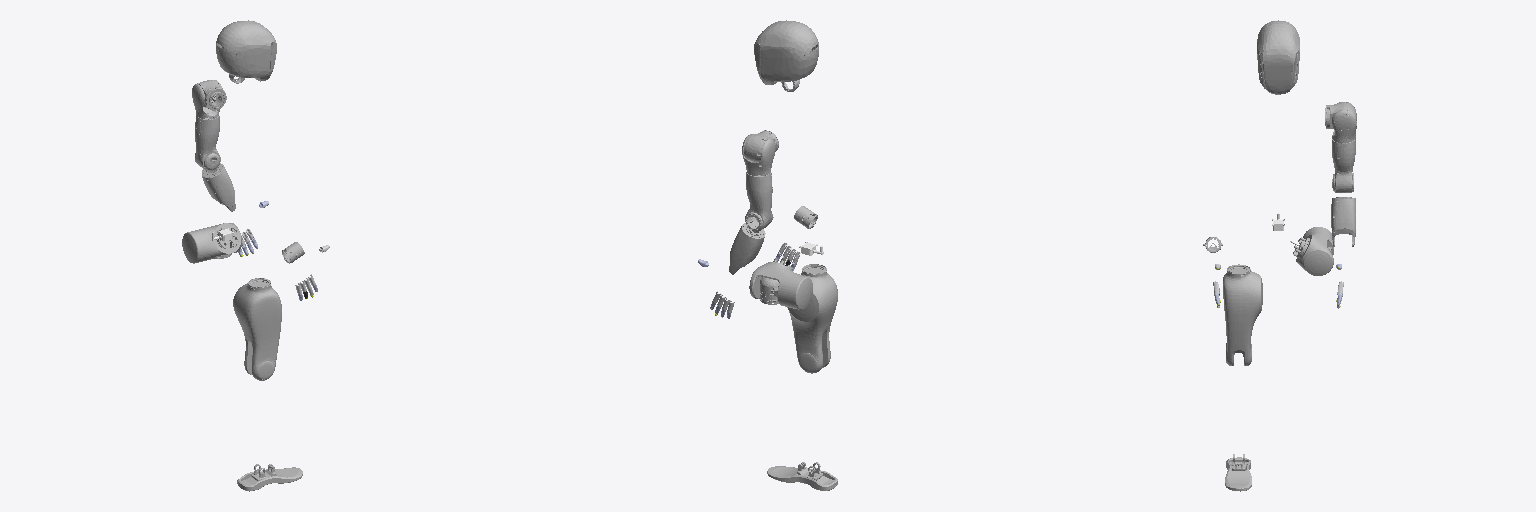
--- Render facts (derived) ---
3 views of the same robot in one strip: view 1: azimuth 30°, elevation 25°; view 2: azimuth 150°, elevation 25°; view 3: azimuth 270°, elevation 25° (orthographic).
Robot: GR2_foot — 69 links, 68 joints (51 revolute, 17 fixed); root link base_link; default pose: all joints at 0.
Visible links, largest first — view 1: right_thigh_yaw_link, head_pitch_link, left_thigh_pitch_link, left_upper_arm_yaw_link, right_foot_pitch_link, left_hand_yaw_link, left_upper_arm_pitch_link; view 2: head_pitch_link, right_thigh_yaw_link, left_thigh_pitch_link, left_upper_arm_yaw_link, right_foot_pitch_link, left_hand_yaw_link, left_upper_arm_roll_link, left_upper_arm_pitch_link; view 3: right_thigh_yaw_link, head_pitch_link, left_thigh_pitch_link, left_upper_arm_yaw_link, left_hand_yaw_link, right_foot_pitch_link, left_upper_arm_roll_link.
Boxes of the visible links, left/top/right/bottom form: right_thigh_yaw_link: left=233, top=278, right=281, bottom=380; head_pitch_link: left=216, top=20, right=276, bottom=83; left_thigh_pitch_link: left=182, top=223, right=241, bottom=263; left_upper_arm_yaw_link: left=195, top=116, right=220, bottom=170; right_foot_pitch_link: left=237, top=464, right=302, bottom=491; left_hand_yaw_link: left=202, top=163, right=235, bottom=211; left_upper_arm_pitch_link: left=197, top=80, right=226, bottom=110; head_pitch_link: left=754, top=20, right=818, bottom=91; right_thigh_yaw_link: left=787, top=264, right=837, bottom=373; left_thigh_pitch_link: left=749, top=258, right=812, bottom=309; left_upper_arm_yaw_link: left=745, top=172, right=772, bottom=231; right_foot_pitch_link: left=767, top=462, right=837, bottom=490; left_hand_yaw_link: left=729, top=223, right=765, bottom=274; left_upper_arm_roll_link: left=742, top=134, right=775, bottom=175; left_upper_arm_pitch_link: left=744, top=130, right=778, bottom=161; right_thigh_yaw_link: left=1223, top=264, right=1262, bottom=365; head_pitch_link: left=1257, top=20, right=1299, bottom=94; left_thigh_pitch_link: left=1290, top=227, right=1333, bottom=275; left_upper_arm_yaw_link: left=1332, top=139, right=1355, bottom=192; left_hand_yaw_link: left=1331, top=197, right=1355, bottom=246; right_foot_pitch_link: left=1225, top=454, right=1251, bottom=491; left_upper_arm_roll_link: left=1332, top=102, right=1356, bottom=142.
Bounding box of the posed robot: 0.3758 × 0.5421 × 1.75 m (x, y, z).
Meshes: 57 distinct files referenced, 30 mesh visuals loaded (30 binary STL); not drawn: 27 (reference not matched to a file when rendering).

The robot description file, URDF, robot "GR2_foot":
<?xml version="1.0" encoding="utf-8"?>

<!-- 12162024-beta-1 -->

<robot
  name="GR2_foot">
  <link
    name="base_link">
    <inertial>
      <origin
        xyz="-0.0078051 -8.06E-08 -0.082971"
        rpy="0 0 0" />
      <mass
        value="6.36" />
      <inertia
        ixx="0.047512"
        ixy="3.99E-06"
        ixz="0.00034188"
        iyy="0.029447"
        iyz="1.7E-05"
        izz="0.039535" />
    </inertial>
    <visual>
      <origin
        xyz="0 0 0"
        rpy="0 0 0" />
      <geometry>
        <mesh
          filename="../meshes/base_link.STL" />
      </geometry>
      <material
        name="">
        <color
          rgba="0.75294 0.75294 0.75294 1" />
      </material>
    </visual>
    <collision name="base_1">
        <origin 
          rpy="0 0 0" 
          xyz="0.0 -0.08 -0.11"/>
        <geometry>
            <sphere radius="0.05"/>
        </geometry>
    </collision>
    <collision name="base_2">
        <origin 
        rpy="0 0 0" 
        xyz="0.0 0.08 -0.11"/>
        <geometry>
            <sphere radius="0.05"/>
        </geometry>
    </collision>
  </link>
  <link
    name="waist_yaw_link">
    <inertial>
      <origin
        xyz="-0.00039919 -3.55E-05 0.08079"
        rpy="0 0 0" />
      <mass
        value="0.69" />
      <inertia
        ixx="0.0010409"
        ixy="-1E-08"
        ixz="-2.8E-07"
        iyy="0.0010447"
        iyz="4.9E-07"
        izz="0.00056658" />
    </inertial>
    <visual>
      <origin
        xyz="0 0 0"
        rpy="0 0 0" />
      <geometry>
        <mesh
          filename="../meshes/waist_yaw_link.STL" />
      </geometry>
      <material
        name="">
        <color
          rgba="0.75294 0.75294 0.75294 1" />
      </material>
    </visual>
    <!-- <collision>
      <origin
        xyz="0 0 0"
        rpy="0 0 0" />
      <geometry>
        <mesh
          filename="../meshes/waist_yaw_link.STL" />
      </geometry>
    </collision> -->
  </link>
  <joint
    name="waist_yaw_joint"
    type="revolute">
    <origin
      xyz="0 0 -0.0335"
      rpy="0 0 0" />
    <parent
      link="base_link" />
    <child
      link="waist_yaw_link" />
    <axis
      xyz="0 0 1" />
    <limit
      lower="-2.617"
      upper="2.617"
      effort="82.5"
      velocity="3.24" />
  </joint>
  <link
    name="torso_link">
    <inertial>
      <origin
        xyz="-0.021484 -4.63E-05 -0.12733"
        rpy="0 0 0" />
      <mass
        value="14.97" />
      <inertia
        ixx="0.26875"
        ixy="-0.00046521"
        ixz="-0.0028119"
        iyy="0.22441"
        iyz="0.0010695"
        izz="0.11476" />
    </inertial>
    <visual>
      <origin
        xyz="0 0 0"
        rpy="0 0 0" />
      <geometry>
        <mesh
          filename="../meshes/torso_link.STL" />
      </geometry>
      <material
        name="">
        <color
          rgba="0.75294 0.75294 0.75294 1" />
      </material>
    </visual>
    <collision>
        <origin
                xyz="0 0 -0.1"
                rpy="0 0 0"/>
        <geometry>
            <cylinder length="0.25" radius="0.1"/>
        </geometry>
    </collision>
  </link>
  <joint
    name="torso_joint"
    type="fixed">
    <origin
      xyz="0 0 0.4135"
      rpy="0 0 0" />
    <parent
      link="waist_yaw_link" />
    <child
      link="torso_link" />
    <axis
      xyz="0 0 0" />
  </joint>
  <link
    name="head_yaw_link">
    <inertial>
      <origin
        xyz="-2.74E-09 0.018481 0.049744"
        rpy="0 0 0" />
      <mass
        value="0.21" />
      <inertia
        ixx="0.00020193"
        ixy="0"
        ixz="0"
        iyy="0.00017128"
        iyz="-3.72E-05"
        izz="6.13E-05" />
    </inertial>
    <visual>
      <origin
        xyz="0 0 0"
        rpy="0 0 0" />
      <geometry>
        <mesh
          filename="../meshes/head_yaw_link.STL" />
      </geometry>
      <material
        name="">
        <color
          rgba="0.752941176470588 0.752941176470588 0.752941176470588 1" />
      </material>
    </visual>
    <!-- <collision>
      <origin
        xyz="0 0 0"
        rpy="0 0 0" />
      <geometry>
        <mesh
          filename="../meshes/head_yaw_link.STL" />
      </geometry>
    </collision> -->
  </link>
  <joint
    name="head_yaw_joint"
    type="revolute">
    <origin
      xyz="0.001 0 0.08575"
      rpy="0 0 0" />
    <parent
      link="torso_link" />
    <child
      link="head_yaw_link" />
    <axis
      xyz="0 0 1" />
    <limit
      lower="-1.396"
      upper="1.396"
      effort="29.4"
      velocity="4.58" />
  </joint>
  <link
    name="head_pitch_link">
    <inertial>
      <origin
        xyz="0.029215 0.0015527 0.08792"
        rpy="0 0 0" />
      <mass
        value="1.29" />
      <inertia
        ixx="0.0064394"
        ixy="3.09E-05"
        ixz="-0.00015995"
        iyy="0.0074596"
        iyz="7.87E-05"
        izz="0.0041621" />
    </inertial>
    <visual>
      <origin
        xyz="0 0 0"
        rpy="0 0 0" />
      <geometry>
        <mesh
          filename="../meshes/head_pitch_link.STL" />
      </geometry>
      <material
        name="">
        <color
          rgba="0.75294 0.75294 0.75294 1" />
      </material>
    </visual>
    <collision name="head">
        <origin 
          rpy="0 0 0" 
          xyz="0 0 0.11"/>
        <geometry>
            <sphere radius="0.08"/>
        </geometry>
    </collision>
  </link>
  <joint
    name="head_pitch_joint"
    type="revolute">
    <origin
      xyz="0 0 0.07005"
      rpy="0 0 0" />
    <parent
      link="head_yaw_link" />
    <child
      link="head_pitch_link" />
    <axis
      xyz="0 1 0" />
    <limit
      lower="-0.523"
      upper="0.663"
      effort="29.4"
      velocity="4.58" />
  </joint>
  <link
    name="camera_link">
    <inertial>
      <origin
        xyz="0.018047 2.84E-05 0.00027674"
        rpy="0 0 0" />
      <mass
        value="0.07" />
      <inertia
        ixx="6.41E-05"
        ixy="1.9E-07"
        ixz="2.4E-07"
        iyy="1.34E-05"
        iyz="0"
        izz="6.69E-05" />
    </inertial>
    <visual>
      <origin
        xyz="0 0 0"
        rpy="0 0 0" />
      <geometry>
        <mesh
          filename="../meshes/camera_link.STL" />
      </geometry>
      <material
        name="">
        <color
          rgba="0.752941176470588 0.752941176470588 0.752941176470588 1" />
      </material>
    </visual>
    <!-- <collision>
      <origin
        xyz="0 0 0"
        rpy="0 0 0" />
      <geometry>
        <mesh
          filename="../meshes/camera_link.STL" />
      </geometry>
    </collision> -->
  </link>
  <joint
    name="camera_joint"
    type="fixed">
    <origin
      xyz="0.090579 0 0.091065"
      rpy="0 0.12217 0" />
    <parent
      link="head_pitch_link" />
    <child
      link="camera_link" />
    <axis
      xyz="0 0 0" />
  </joint>
  <link
    name="left_upper_arm_pitch_link">
    <inertial>
      <origin
        xyz="0.0010189 0.078263 0.001"
        rpy="0 0 0" />
      <mass
        value="1.35" />
      <inertia
        ixx="0.0031422"
        ixy="-6.68E-05"
        ixz="5.1E-07"
        iyy="0.0012583"
        iyz="-2.2E-07"
        izz="0.0030484" />
    </inertial>
    <visual>
      <origin
        xyz="0 0 0"
        rpy="0 0 0" />
      <geometry>
        <mesh
          filename="../meshes/left_upper_arm_pitch_link.STL" />
      </geometry>
      <material
        name="">
        <color
          rgba="0.75294 0.75294 0.75294 1" />
      </material>
    </visual>
    <!-- <collision>
      <origin
        xyz="0 0 0"
        rpy="0 0 0" />
      <geometry>
        <mesh
          filename="../meshes/left_upper_arm_pitch_link.STL" />
      </geometry>
    </collision> -->
  </link>
  <joint
    name="left_shoulder_pitch_joint"
    type="revolute">
    <origin
      xyz="0 0.128 0"
      rpy="0 0 0" />
    <parent
      link="torso_link" />
    <child
      link="left_upper_arm_pitch_link" />
    <axis
      xyz="0 1 0" />
    <limit
      lower="-2.966"
      upper="1.919"
      effort="82.5"
      velocity="3.24" />
  </joint>
  <link
    name="left_upper_arm_roll_link">
    <inertial>
      <origin
        xyz="0.003813 0.0056748 -0.039656"
        rpy="0 0 0" />
      <mass
        value="0.96" />
      <inertia
        ixx="0.002538"
        ixy="9.63E-06"
        ixz="-0.00033776"
        iyy="0.0027454"
        iyz="9E-08"
        izz="0.00086136" />
    </inertial>
    <visual>
      <origin
        xyz="0 0 0"
        rpy="0 0 0" />
      <geometry>
        <mesh
          filename="../meshes/left_upper_arm_roll_link.STL" />
      </geometry>
      <material
        name="">
        <color
          rgba="0.752941176470588 0.752941176470588 0.752941176470588 1" />
      </material>
    </visual>
    <!-- <collision>
      <origin
        xyz="0 0 0"
        rpy="0 0 0" />
      <geometry>
        <mesh
          filename="../meshes/left_upper_arm_roll_link.STL" />
      </geometry>
    </collision> -->
  </link>
  <joint
    name="left_shoulder_roll_joint"
    type="revolute">
    <origin
      xyz="0 0.102 0"
      rpy="0 0 0" />
    <parent
      link="left_upper_arm_pitch_link" />
    <child
      link="left_upper_arm_roll_link" />
    <axis
      xyz="1 0 0" />
    <limit
      lower="-0.523"
      upper="2.791"
      effort="82.5"
      velocity="3.24" />
  </joint>
  <link
    name="left_upper_arm_yaw_link">
    <inertial>
      <origin
        xyz="-0.0019473 0.00066361 -0.054501"
        rpy="0 0 0" />
      <mass
        value="1.32" />
      <inertia
        ixx="0.0068752"
        ixy="3E-07"
        ixz="-8.99E-06"
        iyy="0.0069461"
        iyz="0.00010128"
        izz="0.0011309" />
    </inertial>
    <visual>
      <origin
        xyz="0 0 0"
        rpy="0 0 0" />
      <geometry>
        <mesh
          filename="../meshes/left_upper_arm_yaw_link.STL" />
      </geometry>
      <material
        name="">
        <color
          rgba="0.75294 0.75294 0.75294 1" />
      </material>
    </visual>
    <collision>
        <origin
                xyz="0 0 -0.015"
                rpy="0 0 0"/>
        <geometry>
            <cylinder length="0.11" radius="0.03"/>
        </geometry>
    </collision>
  </link>
  <joint
    name="left_shoulder_yaw_joint"
    type="revolute">
    <origin
      xyz="0 0 -0.12298"
      rpy="0 0 0" />
    <parent
      link="left_upper_arm_roll_link" />
    <child
      link="left_upper_arm_yaw_link" />
    <axis
      xyz="0 0 1" />
    <limit
      lower="-1.832"
      upper="1.832"
      effort="47.4"
      velocity="4.97" />
  </joint>
  <link
    name="left_lower_arm_pitch_link">
    <inertial>
      <origin
        xyz="-0.0033138 0.0044992 -0.02228"
        rpy="0 0 0" />
      <mass
        value="0.48" />
      <inertia
        ixx="0.00070355"
        ixy="-2.97E-06"
        ixz="-4.13E-06"
        iyy="0.00058904"
        iyz="-6.85E-05"
        izz="0.00037244" />
    </inertial>
    <visual>
      <origin
        xyz="0 0 0"
        rpy="0 0 0" />
      <geometry>
        <mesh
          filename="../meshes/left_lower_arm_pitch_link.STL" />
      </geometry>
      <material
        name="">
        <color
          rgba="0.752941176470588 0.752941176470588 0.752941176470588 1" />
      </material>
    </visual>
    <!-- <collision>
      <origin
        xyz="0 0 0"
        rpy="0 0 0" />
      <geometry>
        <mesh
          filename="../meshes/left_lower_arm_pitch_link.STL" />
      </geometry>
    </collision> -->
  </link>
  <joint
    name="left_elbow_pitch_joint"
    type="revolute">
    <origin
      xyz="0 0 -0.13252"
      rpy="0 -0.3927 0" />
    <parent
      link="left_upper_arm_yaw_link" />
    <child
      link="left_lower_arm_pitch_link" />
    <axis
      xyz="0 1 0" />
    <limit
      lower="-1.526"
      upper="0.479"
      effort="47.4"
      velocity="4.97" />
  </joint>
  <link
    name="left_hand_yaw_link">
    <inertial>
      <origin
        xyz="-0.00010282 0.0022157 -0.031002"
        rpy="0 0 0" />
      <mass
        value="1.04" />
      <inertia
        ixx="0.0023678"
        ixy="-9.09E-06"
        ixz="2.09E-05"
        iyy="0.00228285"
        iyz="0.00012584"
        izz="0.00086449" />
    </inertial>
    <visual>
      <origin
        xyz="0 0 0"
        rpy="0 0 0" />
      <geometry>
        <mesh
          filename="../meshes/left_hand_yaw_link.STL" />
      </geometry>
      <material
        name="">
        <color
          rgba="0.752941176470588 0.752941176470588 0.752941176470588 1" />
      </material>
    </visual>
    <collision>
        <origin
                xyz="0 0 -0.05"
                rpy="0 0 0"/>
        <geometry>
            <cylinder length="0.17" radius="0.035"/>
        </geometry>
    </collision>
  </link>
  <joint
    name="left_wrist_yaw_joint"
    type="revolute">
    <origin
      xyz="0 0 -0.086418"
      rpy="0 0 0" />
    <parent
      link="left_lower_arm_pitch_link" />
    <child
      link="left_hand_yaw_link" />
    <axis
      xyz="0 0 1" />
    <limit
      lower="-1.832"
      upper="1.832"
      effort="29.4"
      velocity="4.58" />
  </joint>
  <link
    name="left_hand_pitch_link">
    <inertial>
      <origin
        xyz="0.0058895 7.68E-06 -0.00064642"
        rpy="0 0 0" />
      <mass
        value="0.46" />
      <inertia
        ixx="0.00025616"
        ixy="-5.7E-07"
        ixz="-2.36E-06"
        iyy="0.00022265"
        iyz="-1.1E-07"
        izz="0.00022858" />
    </inertial>
    <visual>
      <origin
        xyz="0 0 0"
        rpy="0 0 0" />
      <geometry>
        <mesh
          filename="../meshes/left_hand_pitch_link.STL" />
      </geometry>
      <material
        name="">
        <color
          rgba="0.75294 0.75294 0.75294 1" />
      </material>
    </visual>
    <!-- <collision>
      <origin
        xyz="0 0 0"
        rpy="0 0 0" />
      <geometry>
        <mesh
          filename="../meshes/left_hand_pitch_link.STL" />
      </geometry>
    </collision> -->
  </link>
  <joint
    name="left_wrist_pitch_joint"
    type="revolute">
    <origin
      xyz="0 0 -0.13208"
      rpy="0 0 0" />
    <parent
      link="left_hand_yaw_link" />
    <child
      link="left_hand_pitch_link" />
    <axis
      xyz="0 1 0" />
    <limit
      lower="-0.611"
      upper="0.611"
      effort="29.4"
      velocity="4.58" />
  </joint>
  <link
    name="left_hand_roll_link">
    <inertial>
      <origin
        xyz="0.0075588 5.06E-05 -0.023965"
        rpy="0 0 0" />
      <mass
        value="0.2" />
      <inertia
        ixx="0.00010941"
        ixy="4E-08"
        ixz="-2.19E-05"
        iyy="0.00017377"
        iyz="5E-08"
        izz="0.00012799" />
    </inertial>
    <visual>
      <origin
        xyz="0 0 0"
        rpy="0 0 0" />
      <geometry>
        <mesh
          filename="../meshes/left_hand_roll_link.STL" />
      </geometry>
      <material
        name="">
        <color
          rgba="0.75294 0.75294 0.75294 1" />
      </material>
    </visual>
    <!-- <collision>
      <origin
        xyz="0 0 0"
        rpy="0 0 0" />
      <geometry>
        <mesh
          filename="../meshes/left_hand_roll_link.STL" />
      </geometry>
    </collision> -->
  </link>
  <joint
    name="left_wrist_roll_joint"
    type="revolute">
    <origin
      xyz="0 0 0"
      rpy="0 0 0" />
    <parent
      link="left_hand_pitch_link" />
    <child
      link="left_hand_roll_link" />
    <axis
      xyz="1 0 0" />
    <limit
      lower="-0.959"
      upper="0.959"
      effort="29.4"
      velocity="4.58" />
  </joint>
  <link
    name="left_end_effector_link">
  </link>
  <joint
    name="left_end_effector_joint"
    type="fixed">
    <origin
      xyz="0 0 -0.043"
      rpy="0 0 0" />
    <parent
      link="left_hand_roll_link" />
    <child
      link="left_end_effector_link" />
  </joint>


  <link
    name="L_hand_base_link">
    <inertial>
      <origin
        xyz="-0.0004466 -0.009158 -0.04325"
        rpy="0 0 0" />
      <mass
        value="0.306" />
      <inertia
        ixx="0.0003042"
        ixy="-5E-07"
        ixz="1E-07"
        iyy="0.0004110"
        iyz="4E-08"
        izz="0.0001951" />
    </inertial>
    <visual>
      <origin
        xyz="0 0 0"
        rpy="0 0 0" />
      <geometry>
        <mesh
          filename="../meshes/fourier_hand_6dof/L_hand_base_link.STL" />
      </geometry>
      <material
        name="">
        <color
          rgba="0.86667 0.86667 0.8902 1" />
      </material>
    </visual>
    <collision>
      <origin
        xyz="0 0 0"
        rpy="0 0 0" />
      <geometry>
        <mesh
          filename="../meshes/fourier_hand_6dof/L_hand_base_link.STL" />
      </geometry>
    </collision>
  </link>
  <joint
    name="L_hand_base_joint"
    type="fixed">
    <origin
      xyz="0 0 0"
      rpy="0 0 0" />
    <parent
      link="left_end_effector_link" />
    <child
      link="L_hand_base_link" />
    <axis
      xyz="0 0 0" />
  </joint>
  <link
    name="L_thumb_proximal_base_link">
    <inertial>
      <origin
        xyz="0.011017 -2.4767E-05 0.00077605"
        rpy="0 0 0" />
      <mass
        value="0.00948527" />
      <inertia
        ixx="3E-07"
        ixy="1E-08"
        ixz="-4E-08"
        iyy="9.5E-07"
        iyz="-1E-08"
        izz="9.7E-07" />
    </inertial>
    <visual>
      <origin
        xyz="0 0 0"
        rpy="0 0 0" />
      <geometry>
        <mesh
          filename="../meshes/fourier_hand_6dof/L_thumb_proximal_base_link.STL" />
      </geometry>
      <material
        name="">
        <color
          rgba="0.8902 0.8902 0.91373 1" />
      </material>
    </visual>
    <collision>
      <origin
        xyz="0 0 0"
        rpy="0 0 0" />
      <geometry>
        <mesh
          filename="../meshes/fourier_hand_6dof/L_thumb_proximal_base_link.STL" />
      </geometry>
    </collision>
  </link>
  <joint
    name="L_thumb_proximal_yaw_joint"
    type="revolute">
    <origin
      xyz="0.022 -0.015498 -0.025093"
      rpy="0 -1.221E-05 0" />
    <parent
      link="L_hand_base_link" />
    <child
      link="L_thumb_proximal_base_link" />
    <axis
      xyz="0 0 1" />
    <limit
      lower="-1.74"
      upper="0"
      effort="10"
      velocity="0.8" />
  </joint>
  <link
    name="L_thumb_proximal_link">
    <inertial>
      <origin
        xyz="0.03196306 -0.00014118 -2.861E-05"
        rpy="0 0 0" />
      <mass
        value="0.07347612" />
      <inertia
        ixx="1.131E-05"
        ixy="1E-07"
        ixz="4E-08"
        iyy="3.183E-05"
        iyz="-1E-08"
        izz="3.376E-05" />
    </inertial>
    <visual>
      <origin
        xyz="0 0 0"
        rpy="0 0 0" />
      <geometry>
        <mesh
          filename="../meshes/fourier_hand_6dof/L_thumb_proximal_link.STL" />
      </geometry>
      <material
        name="">
        <color
          rgba="0.86667 0.86667 0.8902 1" />
      </material>
    </visual>
    <collision>
      <origin
        xyz="0 0 0"
        rpy="0 0 0" />
      <geometry>
        <mesh
          filename="../meshes/fourier_hand_6dof/L_thumb_proximal_link.STL" />
      </geometry>
    </collision>
  </link>
  <joint
    name="L_thumb_proximal_pitch_joint"
    type="revolute">
    <origin
      xyz="0.02175 0 0"
      rpy="-1.5707 0 0" />
    <parent
      link="L_thumb_proximal_base_link" />
    <child
      link="L_thumb_proximal_link" />
    <axis
      xyz="0 0 1" />
    <limit
      lower="0"
      upper="1.22"
      effort="10"
      velocity="0.8" />
  </joint>
  <link
    name="L_thumb_distal_link">
    <inertial>
      <origin
        xyz="0.01321529 -0.00326134 0"
        rpy="0 0 0" />
      <mass
        value="0.02031766" />
      <inertia
        ixx="9.2E-07"
        ixy="-9E-08"
        ixz="0"
        iyy="2.48E-06"
        iyz="0"
        izz="2.34E-06" />
    </inertial>
    <visual>
      <origin
        xyz="0 0 0"
        rpy="0 0 0" />
      <geometry>
        <mesh
          filename="../meshes/fourier_hand_6dof/L_thumb_distal_link.STL" />
      </geometry>
      <material
        name="">
        <color
          rgba="0.79216 0.81961 0.93333 1" />
      </material>
    </visual>
    <collision>
      <origin
        xyz="0 0 0"
        rpy="0 0 0" />
      <geometry>
        <mesh
          filename="../meshes/fourier_hand_6dof/L_thumb_distal_link.STL" />
      </geometry>
    </collision>
  </link>
  <joint
    name="L_thumb_distal_joint"
    type="revolute">
    <origin
      xyz="0.061549 0.0074616 0"
      rpy="0 0 1.221E-05" />
    <parent
      link="L_thumb_proximal_link" />
    <child
      link="L_thumb_distal_link" />
    <axis
      xyz="0 0 1" />
    <limit
      lower="0"
      upper="1.23"
      effort="10"
      velocity="0.8" />
    <mimic
      joint="L_thumb_proximal_pitch_joint"
      multiplier="0.974"
      offset="0" />
  </joint>

  <link name="L_thumb_tip_link">
    <visual>
      <origin
        xyz="0 0 0"
        rpy="0 0 0" />
      <geometry>
        <sphere radius="0.005" />
      </geometry>
      <material name="yellow">
        <color rgba="0.9 1 0 1" />
      </material>
    </visual>
  </link>
  <joint name="L_thumb_tip_joint" type="fixed">
    <parent link="L_thumb_distal_link" />
    <child link="L_thumb_tip_link" />
    <origin rpy="0 0 0" xyz="0.031 -0.001 0" />
  </joint>


  <link
    name="L_index_proximal_link">
    <inertial>
      <origin
        xyz="0.0095993 0.000443 2.96E-06"
        rpy="0 0 0" />
      <mass
        value="0.019117" />
      <inertia
        ixx="8.6E-07"
        ixy="1.2E-07"
        ixz="0"
        iyy="3.71E-06"
        iyz="0"
        izz="3.85E-06" />
    </inertial>
    <visual>
      <origin
        xyz="0 0 0"
        rpy="0 0 0" />
      <geometry>
        <mesh
          filename="../meshes/fourier_hand_6dof/L_index_proximal_link.STL" />
      </geometry>
      <material
        name="">
        <color
          rgba="0.86667 0.86667 0.8902 1" />
      </material>
    </visual>
    <collision>
      <origin
        xyz="0 0 0"
        rpy="0 0 0" />
      <geometry>
        <mesh
          filename="../meshes/fourier_hand_6dof/L_index_proximal_link.STL" />
      </geometry>
    </collision>
  </link>
  <joint
    name="L_index_proximal_joint"
    type="revolute">
    <origin
      xyz="0.026869 -0.012293 -0.095989"
      rpy="0.0013057 1.5184 0.0013039" />
    <parent
      link="L_hand_base_link" />
    <child
      link="L_index_proximal_link" />
    <axis
      xyz="0 0 1" />
    <limit
      lower="-1.57"
      upper="0"
      effort="10"
      velocity="0.8" />
  </joint>
  <link
    name="L_index_intermediate_link">
    <inertial>
      <origin
        xyz="0.01800421 0.00300042 -9.23E-06"
        rpy="0 0 0" />
      <mass
        value="0.01292544" />
      <inertia
        ixx="3.7E-07"
        ixy="2.5E-07"
        ixz="0"
        iyy="2.01E-06"
        iyz="0"
        izz="2.04E-06" />
    </inertial>
    <visual>
      <origin
        xyz="0 0 0"
        rpy="0 0 0" />
      <geometry>
        <mesh
          filename="../meshes/fourier_hand_6dof/L_index_intermediate_link.STL" />
      </geometry>
      <material
        name="">
        <color
          rgba="0.79216 0.81961 0.93333 1" />
      </material>
    </visual>
    <collision>
      <origin
        xyz="0 0 0"
        rpy="0 0 0" />
      <geometry>
        <mesh
          filename="../meshes/fourier_hand_6dof/L_index_intermediate_link.STL" />
      </geometry>
    </collision>
  </link>
  <joint
    name="L_index_intermediate_joint"
    type="revolute">
    <origin
      xyz="0.031532 -0.0054551 0"
      rpy="0 0 -6.8256E-05" />
    <parent
      link="L_index_proximal_link" />
    <child
      link="L_index_intermediate_link" />
    <axis
      xyz="0 0 1" />
    <limit
      lower="-1.74"
      upper="0"
      effort="10"
      velocity="0.8" />
    <mimic
      joint="L_index_proximal_joint"
      multiplier="1.128"
      offset="0" />
  </joint>

  <link name="L_index_tip_link">
    <visual>
      <origin
        xyz="0 0 0"
        rpy="0 0 0" />
      <geometry>
        <sphere radius="0.005" />
      </geometry>
      <material name="yellow">
        <color rgba="0.9 1 0 1" />
      </material>
    </visual>
  </link>
  <joint name="L_index_tip_joint" type="fixed">
    <parent link="L_index_intermediate_link" />
    <child link="L_index_tip_link" />
    <origin rpy="0 0 0" xyz="0.038 -0.0015 0" />
  </joint>


  <link
    name="L_middle_proximal_link">
    <inertial>
      <origin
        xyz="0.00955708 0.00071862 2.96E-06"
        rpy="0 0 0" />
      <mass
        value="0.01911771" />
      <inertia
        ixx="8.6E-07"
        ixy="6E-08"
        ixz="0"
        iyy="3.72E-06"
        iyz="0"
        izz="3.85E-06" />
    </inertial>
    <visual>
      <origin
        xyz="0 0 0"
        rpy="0 0 0" />
      <geometry>
        <mesh
          filename="../meshes/fourier_hand_6dof/L_middle_proximal_link.STL" />
      </geometry>
      <material
        name="">
        <color
          rgba="0.8902 0.8902 0.91373 1" />
      </material>
    </visual>
    <collision>
      <origin
        xyz="0 0 0"
        rpy="0 0 0" />
      <geometry>
        <mesh
          filename="../meshes/fourier_hand_6dof/L_middle_proximal_link.STL" />
      </geometry>
    </collision>
  </link>
  <joint
    name="L_middle_proximal_joint"
    type="revolute">
    <origin
      xyz="0.0085012 -0.012293 -0.097993"
      rpy="1.394 1.5707 1.394" />
    <parent
      link="L_hand_base_link" />
    <child
      link="L_middle_proximal_link" />
    <axis
      xyz="0 0 1" />
    <limit
      lower="-1.57"
      upper="0"
      effort="10"
      velocity="0.8" />
  </joint>
  <link
    name="L_middle_intermediate_link">
    <inertial>
      <origin
        xyz="0.02127931 0.00408456 -9.98E-06"
        rpy="0 0 0" />
      <mass
        value="0.01535007" />
      <inertia
        ixx="4.1E-07"
        ixy="2.2E-07"
        ixz="0"
        iyy="3.28E-06"
        iyz="0"
        izz="3.29E-06" />
    </inertial>
    <visual>
      <origin
        xyz="0 0 0"
        rpy="0 0 0" />
      <geometry>
        <mesh
          filename="../meshes/fourier_hand_6dof/L_middle_intermediate_link.STL" />
      </geometry>
      <material
        name="">
        <color
          rgba="0.79216 0.81961 0.93333 1" />
      </material>
    </visual>
    <collision>
      <origin
        xyz="0 0 0"
        rpy="0 0 0" />
      <geometry>
        <mesh
          filename="../meshes/fourier_hand_6dof/L_middle_intermediate_link.STL" />
      </geometry>
    </collision>
  </link>
  <joint
    name="L_middle_intermediate_joint"
    type="revolute">
    <origin
      xyz="0.031662 -0.0046408 0"
      rpy="0 0 -6.835E-05" />
    <parent
      link="L_middle_proximal_link" />
    <child
      link="L_middle_intermediate_link" />
    <axis
      xyz="0 0 1" />
    <limit
      lower="-1.74"
      upper="0"
      effort="10"
      velocity="0.8" />
    <mimic
      joint="L_middle_proximal_joint"
      multiplier="1.131"
      offset="0" />
  </joint>

  <link name="L_middle_tip_link">
    <visual>
      <origin
        xyz="0 0 0"
        rpy="0 0 0" />
      <geometry>
        <sphere radius="0.005" />
      </geometry>
      <material name="yellow">
        <color rgba="0.9 1 0 1" />
      </material>
    </visual>
  </link>
  <joint name="L_middle_tip_joint" type="fixed">
    <parent link="L_middle_intermediate_link" />
    <child link="L_middle_tip_link" />
    <origin rpy="0 0 0" xyz="0.045 0.0005 0" />
  </joint>


  <link
    name="L_ring_proximal_link">
    <inertial>
      <origin
        xyz="0.00959983 0.0004431 2.96E-06"
        rpy="0 0 0" />
      <mass
        value="0.01911771" />
      <inertia
        ixx="8.6E-07"
        ixy="1.2E-07"
        ixz="0"
        iyy="3.71E-06"
        iyz="0"
        izz="3.85E-06" />
    </inertial>
    <visual>
      <origin
        xyz="0 0 0"
        rpy="0 0 0" />
      <geometry>
        <mesh
          filename="../meshes/fourier_hand_6dof/L_ring_proximal_link.STL" />
      </geometry>
      <material
        name="">
        <color
          rgba="0.8902 0.8902 0.91373 1" />
      </material>
    </visual>
    <collision>
      <origin
        xyz="0 0 0"
        rpy="0 0 0" />
      <geometry>
        <mesh
          filename="../meshes/fourier_hand_6dof/L_ring_proximal_link.STL" />
      </geometry>
    </collision>
  </link>
  <joint
    name="L_ring_proximal_joint"
    type="revolute">
    <origin
      xyz="-0.00996 -0.012293 -0.097938"
      rpy="3.1403 1.5184 3.1403" />
    <parent
      link="L_hand_base_link" />
    <child
      link="L_ring_proximal_link" />
    <axis
      xyz="0 0 1" />
    <limit
      lower="-1.57"
      upper="0"
      effort="10"
      velocity="0.8" />
  </joint>
  <link
    name="L_ring_intermediate_link">
    <inertial>
      <origin
        xyz="0.01800421 0.00300042 -9.23E-06"
        rpy="0 0 0" />
      <mass
        value="0.01292544" />
      <inertia
        ixx="3.7E-07"
        ixy="2.5E-07"
        ixz="0"
        iyy="2.01E-06"
        iyz="0"
        izz="2.04E-06" />
    </inertial>
    <visual>
      <origin
        xyz="0 0 0"
        rpy="0 0 0" />
      <geometry>
        <mesh
          filename="../meshes/fourier_hand_6dof/L_ring_intermediate_link.STL" />
      </geometry>
      <material
        name="">
        <color
          rgba="0.79216 0.81961 0.93333 1" />
      </material>
    </visual>
    <collision>
      <origin
        xyz="0 0 0"
        rpy="0 0 0" />
      <geometry>
        <mesh
          filename="../meshes/fourier_hand_6dof/L_ring_intermediate_link.STL" />
      </geometry>
    </collision>
  </link>
  <joint
    name="L_ring_intermediate_joint"
    type="revolute">
    <origin
      xyz="0.031532 -0.0054551 0"
      rpy="0 0 -6.8256E-05" />
    <parent
      link="L_ring_proximal_link" />
    <child
      link="L_ring_intermediate_link" />
    <axis
      xyz="0 0 1" />
    <limit
      lower="-1.74"
      upper="0"
      effort="10"
      velocity="0.8" />
    <mimic
      joint="L_ring_proximal_joint"
      multiplier="1.143"
      offset="0" />
  </joint>

  <link name="L_ring_tip_link">
    <visual>
      <origin
        xyz="0 0 0"
        rpy="0 0 0" />
      <geometry>
        <sphere radius="0.005" />
      </geometry>
      <material name="green">
        <color rgba="0.9 1 0 1" />
      </material>
    </visual>
  </link>
  <joint name="L_ring_tip_joint" type="fixed">
    <parent link="L_ring_intermediate_link" />
    <child link="L_ring_tip_link" />
    <origin rpy="0 0 0" xyz="0.038 -0.002 0" />
  </joint>


  <link
    name="L_pinky_proximal_link">
    <inertial>
      <origin
        xyz="0.00964414 9.378E-05 2.96E-06"
        rpy="0 0 0" />
      <mass
        value="0.01911771" />
      <inertia
        ixx="8.8E-07"
        ixy="2E-07"
        ixz="0"
        iyy="3.7E-06"
        iyz="0"
        izz="3.85E-06" />
    </inertial>
    <visual>
      <origin
        xyz="0 0 0"
        rpy="0 0 0" />
      <geometry>
        <mesh
          filename="../meshes/fourier_hand_6dof/L_pinky_proximal_link.STL" />
      </geometry>
      <material
        name="">
        <color
          rgba="0.8902 0.8902 0.91373 1" />
      </material>
    </visual>
    <collision>
      <origin
        xyz="0 0 0"
        rpy="0 0 0" />
      <geometry>
        <mesh
          filename="../meshes/fourier_hand_6dof/L_pinky_proximal_link.STL" />
      </geometry>
    </collision>
  </link>
  <joint
    name="L_pinky_proximal_joint"
    type="revolute">
    <origin
      xyz="-0.028227 -0.012293 -0.096013"
      rpy="3.1409 1.4661 3.1409" />
    <parent
      link="L_hand_base_link" />
    <child
      link="L_pinky_proximal_link" />
    <axis
      xyz="0 0 1" />
    <limit
      lower="-1.57"
      upper="0"
      effort="10"
      velocity="0.8" />
  </joint>
  <link
    name="L_pinky_intermediate_link">
    <inertial>
      <origin
        xyz="0.01609604 0.00118817 -8.72E-06"
        rpy="0 0 0" />
      <mass
        value="0.00568707" />
      <inertia
        ixx="1.7E-07"
        ixy="1.3E-07"
        ixz="0"
        iyy="6.2E-07"
        iyz="0"
        izz="6.7E-07" />
    </inertial>
    <visual>
      <origin
        xyz="0 0 0"
        rpy="0 0 0" />
      <geometry>
        <mesh
          filename="../meshes/fourier_hand_6dof/L_pinky_intermediate_link.STL" />
      </geometry>
      <material
        name="">
        <color
          rgba="0.79216 0.81961 0.93333 1" />
      </material>
    </visual>
    <collision>
      <origin
        xyz="0 0 0"
        rpy="0 0 0" />
      <geometry>
        <mesh
          filename="../meshes/fourier_hand_6dof/L_pinky_intermediate_link.STL" />
      </geometry>
    </collision>
  </link>
  <joint
    name="L_pinky_intermediate_joint"
    type="revolute">
    <origin
      xyz="0.031338 -0.0064763 0"
      rpy="0 0 -6.7976E-05" />
    <parent
      link="L_pinky_proximal_link" />
    <child
      link="L_pinky_intermediate_link" />
    <axis
      xyz="0 0 1" />
    <limit
      lower="-1.74"
      upper="0"
      effort="10"
      velocity="0.8" />
    <mimic
      joint="L_pinky_proximal_joint"
      multiplier="1.129"
      offset="0" />
  </joint>

  <link name="L_pinky_tip_link">
    <visual>
      <origin
        xyz="0 0 0"
        rpy="0 0 0" />
      <geometry>
        <sphere radius="0.005" />
      </geometry>
      <material name="yellow">
        <color rgba="0.9 1 0 1" />
      </material>
    </visual>
  </link>
  <joint name="L_pinky_tip_joint" type="fixed">
    <parent link="L_pinky_intermediate_link" />
    <child link="L_pinky_tip_link" />
    <origin rpy="0 0 0" xyz="0.031 -0.0040 0" />
  </joint>

  <link
    name="right_upper_arm_pitch_link">
    <inertial>
      <origin
        xyz="0.0010189 -0.078263 0.00099876"
        rpy="0 0 0" />
      <mass
        value="1.35" />
      <inertia
        ixx="0.00314221"
        ixy="6.68E-05"
        ixz="-2.8E-07"
        iyy="0.00125832"
        iyz="-2.1E-07"
        izz="0.00304841" />
    </inertial>
    <visual>
      <origin
        xyz="0 0 0"
        rpy="0 0 0" />
      <geometry>
        <mesh
          filename="../meshes/right_upper_arm_pitch_link.STL" />
      </geometry>
      <material
        name="">
        <color
          rgba="0.752941176470588 0.752941176470588 0.752941176470588 1" />
      </material>
    </visual>
    <!-- <collision>
      <origin
        xyz="0 0 0"
        rpy="0 0 0" />
      <geometry>
        <mesh
          filename="../meshes/right_upper_arm_pitch_link.STL" />
      </geometry>
    </collision> -->
  </link>
  <joint
    name="right_shoulder_pitch_joint"
    type="revolute">
    <origin
      xyz="0 -0.128 0"
      rpy="0 0 0" />
    <parent
      link="torso_link" />
    <child
      link="right_upper_arm_pitch_link" />
    <axis
      xyz="0 1 0" />
    <limit
      lower="-2.966"
      upper="1.919"
      effort="82.5"
      velocity="3.24" />
  </joint>
  <link
    name="right_upper_arm_roll_link">
    <inertial>
      <origin
        xyz="0.0038177 -0.0056812 -0.039659"
        rpy="0 0 0" />
      <mass
        value="0.96" />
      <inertia
        ixx="0.00253796"
        ixy="-9.64E-06"
        ixz="-0.00033779"
        iyy="0.00274532"
        iyz="-1E-07"
        izz="0.00086134" />
    </inertial>
    <visual>
      <origin
        xyz="0 0 0"
        rpy="0 0 0" />
      <geometry>
        <mesh
          filename="../meshes/right_upper_arm_roll_link.STL" />
      </geometry>
      <material
        name="">
        <color
          rgba="0.752941176470588 0.752941176470588 0.752941176470588 1" />
      </material>
    </visual>
    <!-- <collision>
      <origin
        xyz="0 0 0"
        rpy="0 0 0" />
      <geometry>
        <mesh
          filename="../meshes/right_upper_arm_roll_link.STL" />
      </geometry>
    </collision> -->
  </link>
  <joint
    name="right_shoulder_roll_joint"
    type="revolute">
    <origin
      xyz="0 -0.102 0"
      rpy="0 0 0" />
    <parent
      link="right_upper_arm_pitch_link" />
    <child
      link="right_upper_arm_roll_link" />
    <axis
      xyz="1 0 0" />
    <limit
      lower="-2.791"
      upper="0.523"
      effort="82.5"
      velocity="3.24" />
  </joint>
  <link
    name="right_upper_arm_yaw_link">
    <inertial>
      <origin
        xyz="-0.0019495 -0.00067825 -0.054499"
        rpy="0 0 0" />
      <mass
        value="1.32" />
      <inertia
        ixx="0.00687525"
        ixy="-5E-08"
        ixz="-8.43E-06"
        iyy="0.00694622"
        iyz="-0.0001015"
        izz="0.00113084" />
    </inertial>
    <visual>
      <origin
        xyz="0 0 0"
        rpy="0 0 0" />
      <geometry>
        <mesh
          filename="../meshes/right_upper_arm_yaw_link.STL" />
      </geometry>
      <material
        name="">
        <color
          rgba="0.752941176470588 0.752941176470588 0.752941176470588 1" />
      </material>
    </visual>
    <collision>
        <origin
                xyz="0 0 -0.01"
                rpy="0 0 0"/>
        <geometry>
            <cylinder length="0.11" radius="0.03"/>
        </geometry>
    </collision>
  </link>
  <joint
    name="right_shoulder_yaw_joint"
    type="revolute">
    <origin
      xyz="0 0 -0.12298"
      rpy="0 0 0" />
    <parent
      link="right_upper_arm_roll_link" />
    <child
      link="right_upper_arm_yaw_link" />
    <axis
      xyz="0 0 1" />
    <limit
      lower="-1.832"
      upper="1.832"
      effort="47.4"
      velocity="4.97" />
  </joint>
  <link
    name="right_lower_arm_pitch_link">
    <inertial>
      <origin
        xyz="-0.003312 -0.0044989 -0.022283"
        rpy="0 0 0" />
      <mass
        value="0.48" />
      <inertia
        ixx="0.00070352"
        ixy="2.96E-06"
        ixz="-4.13E-06"
        iyy="0.00058903"
        iyz="6.85E-05"
        izz="0.00037243" />
    </inertial>
    <visual>
      <origin
        xyz="0 0 0"
        rpy="0 0 0" />
      <geometry>
        <mesh
          filename="../meshes/right_lower_arm_pitch_link.STL" />
      </geometry>
      <material
        name="">
        <color
          rgba="0.752941176470588 0.752941176470588 0.752941176470588 1" />
      </material>
    </visual>
    <!-- <collision>
      <origin
        xyz="0 0 0"
        rpy="0 0 0" />
      <geometry>
        <mesh
          filename="../meshes/right_lower_arm_pitch_link.STL" />
      </geometry>
    </collision> -->
  </link>
  <joint
    name="right_elbow_pitch_joint"
    type="revolute">
    <origin
      xyz="0 0 -0.13252"
      rpy="0 -0.3927 0" />
    <parent
      link="right_upper_arm_yaw_link" />
    <child
      link="right_lower_arm_pitch_link" />
    <axis
      xyz="0 1 0" />
    <limit
      lower="-1.526"
      upper="0.479"
      effort="47.4"
      velocity="4.97" />
  </joint>
  <link
    name="right_hand_yaw_link">
    <inertial>
      <origin
        xyz="-0.00010192 -0.0022168 -0.03101"
        rpy="0 0 0" />
      <mass
        value="1.04" />
      <inertia
        ixx="0.00236563"
        ixy="8.98E-06"
        ixz="2.07E-05"
        iyy="0.00228058"
        iyz="-0.00012888"
        izz="0.0008652" />
    </inertial>
    <visual>
      <origin
        xyz="0 0 0"
        rpy="0 0 0" />
      <geometry>
        <mesh
          filename="../meshes/right_hand_yaw_link.STL" />
      </geometry>
      <material
        name="">
        <color
          rgba="0.752941176470588 0.752941176470588 0.752941176470588 1" />
      </material>
    </visual>
    <collision>
        <origin
                xyz="0 0 -0.05"
                rpy="0 0 0"/>
        <geometry>
            <cylinder length="0.17" radius="0.035"/>
        </geometry>
    </collision>
  </link>
  <joint
    name="right_wrist_yaw_joint"
    type="revolute">
    <origin
      xyz="0 0 -0.086418"
      rpy="0 0 0" />
    <parent
      link="right_lower_arm_pitch_link" />
    <child
      link="right_hand_yaw_link" />
    <axis
      xyz="0 0 1" />
    <limit
      lower="-1.832"
      upper="1.832"
      effort="29.4"
      velocity="4.58" />
  </joint>
  <link
    name="right_hand_pitch_link">
    <inertial>
      <origin
        xyz="0.0058903 -7.69E-06 -0.0006462"
        rpy="0 0 0" />
      <mass
        value="0.46" />
      <inertia
        ixx="0.00025616"
        ixy="5.5E-07"
        ixz="-2.32E-06"
        iyy="0.00022274"
        iyz="6E-08"
        izz="0.00022849" />
    </inertial>
    <visual>
      <origin
        xyz="0 0 0"
        rpy="0 0 0" />
      <geometry>
        <mesh
          filename="../meshes/right_hand_pitch_link.STL" />
      </geometry>
      <material
        name="">
        <color
          rgba="0.752941176470588 0.752941176470588 0.752941176470588 1" />
      </material>
    </visual>
    <!-- <collision>
      <origin
        xyz="0 0 0"
        rpy="0 0 0" />
      <geometry>
        <mesh
          filename="../meshes/right_hand_pitch_link.STL" />
      </geometry>
    </collision> -->
  </link>
  <joint
    name="right_wrist_pitch_joint"
    type="revolute">
    <origin
      xyz="0 0 -0.13208"
      rpy="0 0 0" />
    <parent
      link="right_hand_yaw_link" />
    <child
      link="right_hand_pitch_link" />
    <axis
      xyz="0 1 0" />
    <limit
      lower="-0.611"
      upper="0.611"
      effort="29.4"
      velocity="4.58" />
  </joint>
  <link
    name="right_hand_roll_link">
    <inertial>
      <origin
        xyz="0.008305 4.79E-05 -0.022699"
        rpy="0 0 0" />
      <mass
        value="0.2" />
      <inertia
        ixx="0.00010941"
        ixy="4E-08"
        ixz="-2.19E-05"
        iyy="0.00017377"
        iyz="5E-08"
        izz="0.00012799" />
    </inertial>
    <visual>
      <origin
        xyz="0 0 0"
        rpy="0 0 0" />
      <geometry>
        <mesh
          filename="../meshes/right_hand_roll_link.STL" />
      </geometry>
      <material
        name="">
        <color
          rgba="0.752941176470588 0.752941176470588 0.752941176470588 1" />
      </material>
    </visual>
    <!-- <collision>
      <origin
        xyz="0 0 0"
        rpy="0 0 0" />
      <geometry>
        <mesh
          filename="../meshes/right_hand_roll_link.STL" />
      </geometry>
    </collision> -->
  </link>
  <joint
    name="right_wrist_roll_joint"
    type="revolute">
    <origin
      xyz="0 0 0"
      rpy="0 0 0" />
    <parent
      link="right_hand_pitch_link" />
    <child
      link="right_hand_roll_link" />
    <axis
      xyz="1 0 0" />
    <limit
      lower="-0.959"
      upper="0.959"
      effort="29.4"
      velocity="4.58" />
  </joint>
  <link
    name="right_end_effector_link">
  </link>
  <joint
    name="right_end_effector_joint"
    type="fixed">
    <origin
      xyz="0 0 -0.043"
      rpy="0 0 0" />
    <parent
      link="right_hand_roll_link" />
    <child
      link="right_end_effector_link" />
  </joint>


  <link
    name="R_hand_base_link">
    <inertial>
      <origin
        xyz="-0.00046411 0.00916118 -0.04313895"
        rpy="0 0 0" />
      <mass
        value="0.306" />
      <inertia
        ixx="0.00030404"
        ixy="4.9E-07"
        ixz="-3E-08"
        iyy="0.00041091"
        iyz="1E-08"
        izz="0.00019509" />
    </inertial>
    <visual>
      <origin
        xyz="0 0 0"
        rpy="0 0 0" />
      <geometry>
        <mesh
          filename="../meshes/fourier_hand_6dof/R_hand_base_link.STL" />
      </geometry>
      <material
        name="">
        <color
          rgba="0.86667 0.86667 0.8902 1" />
      </material>
    </visual>
    <collision>
      <origin
        xyz="0 0 0"
        rpy="0 0 0" />
      <geometry>
        <mesh
          filename="../meshes/fourier_hand_6dof/R_hand_base_link.STL" />
      </geometry>
    </collision>
  </link>
  <joint
    name="R_hand_base_joint"
    type="fixed">
    <origin
      xyz="0 0 0"
      rpy="-6.83500415935726E-05 1.22100046026127E-05 0" />
    <parent
      link="right_end_effector_link" />
    <child
      link="R_hand_base_link" />
    <axis
      xyz="0 0 0" />
  </joint>
  <link
    name="R_thumb_proximal_base_link">
    <inertial>
      <origin
        xyz="0.01102125 -2.455E-05 -0.00077678"
        rpy="0 0 0" />
      <mass
        value="0.00948218" />
      <inertia
        ixx="3E-07"
        ixy="1E-08"
        ixz="4E-08"
        iyy="9.5E-07"
        iyz="1E-08"
        izz="9.7E-07" />
    </inertial>
    <visual>
      <origin
        xyz="0 0 0"
        rpy="0 0 0" />
      <geometry>
        <mesh
          filename="../meshes/fourier_hand_6dof/R_thumb_proximal_base_link.STL" />
      </geometry>
      <material
        name="">
        <color
          rgba="0.8902 0.8902 0.91373 1" />
      </material>
    </visual>
    <collision>
      <origin
        xyz="0 0 0"
        rpy="0 0 0" />
      <geometry>
        <mesh
          filename="../meshes/fourier_hand_6dof/R_thumb_proximal_base_link.STL" />
      </geometry>
    </collision>
  </link>
  <joint
    name="R_thumb_proximal_yaw_joint"
    type="revolute">
    <origin
      xyz="0.021995 0.015502 -0.024995"
      rpy="3.1416 0 0" />
    <parent
      link="R_hand_base_link" />
    <child
      link="R_thumb_proximal_base_link" />
    <axis
      xyz="0 0 1" />
    <limit
      lower="-1.74"
      upper="0"
      effort="10"
      velocity="0.8" />
  </joint>
  <link
    name="R_thumb_proximal_link">
    <inertial>
      <origin
        xyz="0.03218903 0.000287 -2.839E-05"
        rpy="0 0 0" />
      <mass
        value="0.07405243" />
      <inertia
        ixx="1.132E-05"
        ixy="-1.7E-07"
        ixz="4E-08"
        iyy="3.228E-05"
        iyz="-1E-08"
        izz="3.419E-05" />
    </inertial>
    <visual>
      <origin
        xyz="0 0 0"
        rpy="0 0 0" />
      <geometry>
        <mesh
          filename="../meshes/fourier_hand_6dof/R_thumb_proximal_link.STL" />
      </geometry>
      <material
        name="">
        <color
          rgba="0.86667 0.86667 0.8902 1" />
      </material>
    </visual>
    <collision>
      <origin
        xyz="0 0 0"
        rpy="0 0 0" />
      <geometry>
        <mesh
          filename="../meshes/fourier_hand_6dof/R_thumb_proximal_link.STL" />
      </geometry>
    </collision>
  </link>
  <joint
    name="R_thumb_proximal_pitch_joint"
    type="revolute">
    <origin
      xyz="0.02175 0 0"
      rpy="1.5709 1.221E-05 0" />
    <parent
      link="R_thumb_proximal_base_link" />
    <child
      link="R_thumb_proximal_link" />
    <axis
      xyz="0 0 1" />
    <limit
      lower="0"
      upper="1.22"
      effort="10"
      velocity="0.8" />
  </joint>
  <link
    name="R_thumb_distal_link">
    <inertial>
      <origin
        xyz="0.01373199 -0.00277415 0"
        rpy="0 0 0" />
      <mass
        value="0.01974135" />
      <inertia
        ixx="9E-07"
        ixy="-9E-08"
        ixz="0"
        iyy="2.33E-06"
        iyz="0"
        izz="2.19E-06" />
    </inertial>
    <visual>
      <origin
        xyz="0 0 0"
        rpy="0 0 0" />
      <geometry>
        <mesh
          filename="../meshes/fourier_hand_6dof/R_thumb_distal_link.STL" />
      </geometry>
      <material
        name="">
        <color
          rgba="0.86667 0.86667 0.8902 1" />
      </material>
    </visual>
    <collision>
      <origin
        xyz="0 0 0"
        rpy="0 0 0" />
      <geometry>
        <mesh
          filename="../meshes/fourier_hand_6dof/R_thumb_distal_link.STL" />
      </geometry>
    </collision>
  </link>
  <joint
    name="R_thumb_distal_joint"
    type="revolute">
    <origin
      xyz="0.061444 0.0082822 0"
      rpy="0 0 1.221E-05" />
    <parent
      link="R_thumb_proximal_link" />
    <child
      link="R_thumb_distal_link" />
    <axis
      xyz="0 0 1" />
    <limit
      lower="0"
      upper="1.23"
      effort="10"
      velocity="0.8" />
    <mimic
      joint="R_thumb_proximal_pitch_joint"
      multiplier="0.974"
      offset="0" />
  </joint>

  <link name="R_thumb_tip_link">
    <visual>
      <origin
        xyz="0 0 0"
        rpy="0 0 0" />
      <geometry>
        <sphere radius="0.005" />
      </geometry>
      <material name="yellow">
        <color rgba="0.9 1 0 1" />
      </material>
    </visual>
  </link>
  <joint name="R_thumb_tip_joint" type="fixed">
    <parent link="R_thumb_distal_link" />
    <child link="R_thumb_tip_link" />
    <origin rpy="0 0 0" xyz="0.031 0 0" />
  </joint>


  <link
    name="R_index_proximal_link">
    <inertial>
      <origin
        xyz="0.00959983 0.0004431 2.96E-06"
        rpy="0 0 0" />
      <mass
        value="0.01911771" />
      <inertia
        ixx="8.6E-07"
        ixy="1.2E-07"
        ixz="0"
        iyy="3.71E-06"
        iyz="0"
        izz="3.85E-06" />
    </inertial>
    <visual>
      <origin
        xyz="0 0 0"
        rpy="0 0 0" />
      <geometry>
        <mesh
          filename="../meshes/fourier_hand_6dof/R_index_proximal_link.STL" />
      </geometry>
      <material
        name="">
        <color
          rgba="0.8902 0.8902 0.91373 1" />
      </material>
    </visual>
    <collision>
      <origin
        xyz="0 0 0"
        rpy="0 0 0" />
      <geometry>
        <mesh
          filename="../meshes/fourier_hand_6dof/R_index_proximal_link.STL" />
      </geometry>
    </collision>
  </link>
  <joint
    name="R_index_proximal_joint"
    type="revolute">
    <origin
      xyz="0.026864 0.012307 -0.095892"
      rpy="-3.1403 1.5184 0.0013039" />
    <parent
      link="R_hand_base_link" />
    <child
      link="R_index_proximal_link" />
    <axis
      xyz="0 0 1" />
    <limit
      lower="-1.57"
      upper="0"
      effort="10"
      velocity="0.8" />
  </joint>
  <link
    name="R_index_intermediate_link">
    <inertial>
      <origin
        xyz="0.01800441 0.00299919 -9.23E-06"
        rpy="0 0 0" />
      <mass
        value="0.01292544" />
      <inertia
        ixx="3.7E-07"
        ixy="2.5E-07"
        ixz="0"
        iyy="2.01E-06"
        iyz="0"
        izz="2.04E-06" />
    </inertial>
    <visual>
      <origin
        xyz="0 0 0"
        rpy="0 0 0" />
      <geometry>
        <mesh
          filename="../meshes/fourier_hand_6dof/R_index_intermediate_link.STL" />
      </geometry>
      <material
        name="">
        <color
          rgba="0.79216 0.81961 0.93333 1" />
      </material>
    </visual>
    <collision>
      <origin
        xyz="0 0 0"
        rpy="0 0 0" />
      <geometry>
        <mesh
          filename="../meshes/fourier_hand_6dof/R_index_intermediate_link.STL" />
      </geometry>
    </collision>
  </link>
  <joint
    name="R_index_intermediate_joint"
    type="revolute">
    <origin
      xyz="0.031532 -0.0054551 0"
      rpy="0 0 0" />
    <parent
      link="R_index_proximal_link" />
    <child
      link="R_index_intermediate_link" />
    <axis
      xyz="0 0 1" />
    <limit
      lower="-1.74"
      upper="0"
      effort="10"
      velocity="0.8" />
    <mimic
      joint="R_index_proximal_joint"
      multiplier="1.128"
      offset="0" />
  </joint>

  <link name="R_index_tip_link">
    <visual>
      <origin
        xyz="0 0 0"
        rpy="0 0 0" />
      <geometry>
        <sphere radius="0.005" />
      </geometry>
      <material name="yellow">
        <color rgba="0.9 1 0 1" />
      </material>
    </visual>
  </link>
  <joint name="R_index_tip_joint" type="fixed">
    <parent link="R_index_intermediate_link" />
    <child link="R_index_tip_link" />
    <origin rpy="0 0 0" xyz="0.038 -0.0015 0" />
  </joint>


  <link
    name="R_middle_proximal_link">
    <inertial>
      <origin
        xyz="0.00955708 0.00071862 2.96E-06"
        rpy="0 0 0" />
      <mass
        value="0.01911771" />
      <inertia
        ixx="8.6E-07"
        ixy="6E-08"
        ixz="0"
        iyy="3.72E-06"
        iyz="0"
        izz="3.85E-06" />
    </inertial>
    <visual>
      <origin
        xyz="0 0 0"
        rpy="0 0 0" />
      <geometry>
        <mesh
          filename="../meshes/fourier_hand_6dof/R_middle_proximal_link.STL" />
      </geometry>
      <material
        name="">
        <color
          rgba="0.8902 0.8902 0.91373 1" />
      </material>
    </visual>
    <collision>
      <origin
        xyz="0 0 0"
        rpy="0 0 0" />
      <geometry>
        <mesh
          filename="../meshes/fourier_hand_6dof/R_middle_proximal_link.STL" />
      </geometry>
    </collision>
  </link>
  <joint
    name="R_middle_proximal_joint"
    type="revolute">
    <origin
      xyz="0.0084962 0.012307 -0.097896"
      rpy="-1.7476 1.5707 1.394" />
    <parent
      link="R_hand_base_link" />
    <child
      link="R_middle_proximal_link" />
    <axis
      xyz="0 0 1" />
    <limit
      lower="-1.57"
      upper="0"
      effort="10"
      velocity="0.8" />
  </joint>
  <link
    name="R_middle_intermediate_link">
    <inertial>
      <origin
        xyz="0.02128 0.0040831 -9.98E-06"
        rpy="0 0 0" />
      <mass
        value="0.01535" />
      <inertia
        ixx="4.1E-07"
        ixy="2.2E-07"
        ixz="0"
        iyy="3.28E-06"
        iyz="0"
        izz="3.29E-06" />
    </inertial>
    <visual>
      <origin
        xyz="0 0 0"
        rpy="0 0 0" />
      <geometry>
        <mesh
          filename="../meshes/fourier_hand_6dof/R_middle_intermediate_link.STL" />
      </geometry>
      <material
        name="">
        <color
          rgba="0.86667 0.86667 0.8902 1" />
      </material>
    </visual>
    <collision>
      <origin
        xyz="0 0 0"
        rpy="0 0 0" />
      <geometry>
        <mesh
          filename="../meshes/fourier_hand_6dof/R_middle_intermediate_link.STL" />
      </geometry>
    </collision>
  </link>
  <joint
    name="R_middle_intermediate_joint"
    type="revolute">
    <origin
      xyz="0.031662 -0.0046408 0"
      rpy="0 0 0" />
    <parent
      link="R_middle_proximal_link" />
    <child
      link="R_middle_intermediate_link" />
    <axis
      xyz="0 0 1" />
    <limit
      lower="-1.74"
      upper="0"
      effort="10"
      velocity="0.8" />
    <mimic
      joint="R_middle_proximal_joint"
      multiplier="1.131"
      offset="0" />
  </joint>

  <link name="R_middle_tip_link">
    <visual>
      <origin
        xyz="0 0 0"
        rpy="0 0 0" />
      <geometry>
        <sphere radius="0.005" />
      </geometry>
      <material name="yellow">
        <color rgba="0.9 1 0 1" />
      </material>
    </visual>
  </link>
  <joint name="R_middle_tip_joint" type="fixed">
    <parent link="R_middle_intermediate_link" />
    <child link="R_middle_tip_link" />
    <origin rpy="0 0 0" xyz="0.045 0.0005 0" />
  </joint>


  <link
    name="R_ring_proximal_link">
    <inertial>
      <origin
        xyz="0.00959986 0.00044244 2.96E-06"
        rpy="0 0 0" />
      <mass
        value="0.01911771" />
      <inertia
        ixx="8.6E-07"
        ixy="1.2E-07"
        ixz="0"
        iyy="3.71E-06"
        iyz="0"
        izz="3.85E-06" />
    </inertial>
    <visual>
      <origin
        xyz="0 0 0"
        rpy="0 0 0" />
      <geometry>
        <mesh
          filename="../meshes/fourier_hand_6dof/R_ring_proximal_link.STL" />
      </geometry>
      <material
        name="">
        <color
          rgba="0.8902 0.8902 0.91373 1" />
      </material>
    </visual>
    <collision>
      <origin
        xyz="0 0 0"
        rpy="0 0 0" />
      <geometry>
        <mesh
          filename="../meshes/fourier_hand_6dof/R_ring_proximal_link.STL" />
      </geometry>
    </collision>
  </link>
  <joint
    name="R_ring_proximal_joint"
    type="revolute">
    <origin
      xyz="-0.009965 0.012307 -0.097841"
      rpy="0 1.5184 3.1416" />
    <parent
      link="R_hand_base_link" />
    <child
      link="R_ring_proximal_link" />
    <axis
      xyz="0 0 1" />
    <limit
      lower="-1.57"
      upper="0"
      effort="10"
      velocity="0.8" />
  </joint>
  <link
    name="R_ring_intermediate_link">
    <inertial>
      <origin
        xyz="0.018005 0.002998 -9.23E-06"
        rpy="0 0 0" />
      <mass
        value="0.012925" />
      <inertia
        ixx="3.7E-07"
        ixy="2.5E-07"
        ixz="0"
        iyy="2.01E-06"
        iyz="0"
        izz="2.04E-06" />
    </inertial>
    <visual>
      <origin
        xyz="0 0 0"
        rpy="0 0 0" />
      <geometry>
        <mesh
          filename="../meshes/fourier_hand_6dof/R_ring_intermediate_link.STL" />
      </geometry>
      <material
        name="">
        <color
          rgba="0.29804 0.29804 0.29804 1" />
      </material>
    </visual>
    <collision>
      <origin
        xyz="0 0 0"
        rpy="0 0 0" />
      <geometry>
        <mesh
          filename="../meshes/fourier_hand_6dof/R_ring_intermediate_link.STL" />
      </geometry>
    </collision>
  </link>
  <joint
    name="R_ring_intermediate_joint"
    type="revolute">
    <origin
      xyz="0.031531 -0.0054572 0"
      rpy="0 0 0" />
    <parent
      link="R_ring_proximal_link" />
    <child
      link="R_ring_intermediate_link" />
    <axis
      xyz="0 0 1" />
    <limit
      lower="-1.74"
      upper="0"
      effort="10"
      velocity="0.8" />
    <mimic
      joint="R_ring_proximal_joint"
      multiplier="1.143"
      offset="0" />
  </joint>

  <link name="R_ring_tip_link">
    <visual>
      <origin
        xyz="0 0 0"
        rpy="0 0 0" />
      <geometry>
        <sphere radius="0.005" />
      </geometry>
      <material name="green">
        <color rgba="0.9 1 0 1" />
      </material>
    </visual>
  </link>
  <joint name="R_ring_tip_joint" type="fixed">
    <parent link="R_ring_intermediate_link" />
    <child link="R_ring_tip_link" />
    <origin rpy="0 0 0" xyz="0.038 -0.0015 0" />
  </joint>


  <link
    name="R_pinky_proximal_link">
    <inertial>
      <origin
        xyz="0.00964414 9.378E-05 2.96E-06"
        rpy="0 0 0" />
      <mass
        value="0.01911771" />
      <inertia
        ixx="8.8E-07"
        ixy="2E-07"
        ixz="0"
        iyy="3.7E-06"
        iyz="0"
        izz="3.85E-06" />
    </inertial>
    <visual>
      <origin
        xyz="0 0 0"
        rpy="0 0 0" />
      <geometry>
        <mesh
          filename="../meshes/fourier_hand_6dof/R_pinky_proximal_link.STL" />
      </geometry>
      <material
        name="">
        <color
          rgba="0.8902 0.8902 0.91373 1" />
      </material>
    </visual>
    <collision>
      <origin
        xyz="0 0 0"
        rpy="0 0 0" />
      <geometry>
        <mesh
          filename="../meshes/fourier_hand_6dof/R_pinky_proximal_link.STL" />
      </geometry>
    </collision>
  </link>
  <joint
    name="R_pinky_proximal_joint"
    type="revolute">
    <origin
      xyz="-0.028232 0.012307 -0.095916"
      rpy="-0.00065397 1.4661 3.1409" />
    <parent
      link="R_hand_base_link" />
    <child
      link="R_pinky_proximal_link" />
    <axis
      xyz="0 0 1" />
    <limit
      lower="-1.57"
      upper="0"
      effort="10"
      velocity="0.8" />
  </joint>
  <link
    name="R_pinky_intermediate_link">
    <inertial>
      <origin
        xyz="0.0160962 0.00118598 -8.72E-06"
        rpy="0 0 0" />
      <mass
        value="0.00568707" />
      <inertia
        ixx="1.7E-07"
        ixy="1.3E-07"
        ixz="0"
        iyy="6.2E-07"
        iyz="0"
        izz="6.7E-07" />
    </inertial>
    <visual>
      <origin
        xyz="0 0 0"
        rpy="0 0 0" />
      <geometry>
        <mesh
          filename="../meshes/fourier_hand_6dof/R_pinky_intermediate_link.STL" />
      </geometry>
      <material
        name="">
        <color
          rgba="0.79216 0.81961 0.93333 1" />
      </material>
    </visual>
    <collision>
      <origin
        xyz="0 0 0"
        rpy="0 0 0" />
      <geometry>
        <mesh
          filename="../meshes/fourier_hand_6dof/R_pinky_intermediate_link.STL" />
      </geometry>
    </collision>
  </link>
  <joint
    name="R_pinky_intermediate_joint"
    type="revolute">
    <origin
      xyz="0.031338 -0.0064763 0"
      rpy="0 0 6.7976E-05" />
    <parent
      link="R_pinky_proximal_link" />
    <child
      link="R_pinky_intermediate_link" />
    <axis
      xyz="0 0 1" />
    <limit
      lower="-1.74"
      upper="0"
      effort="10"
      velocity="0.8" />
    <mimic
      joint="R_pinky_proximal_joint"
      multiplier="1.129"
      offset="0" />
  </joint>

  <link name="R_pinky_tip_link">
    <visual>
      <origin
        xyz="0 0 0"
        rpy="0 0 0" />
      <geometry>
        <sphere radius="0.005" />
      </geometry>
      <material name="yellow">
        <color rgba="0.9 1 0 1" />
      </material>
    </visual>
  </link>
  <joint name="R_pinky_tip_joint" type="fixed">
    <parent link="R_pinky_intermediate_link" />
    <child link="R_pinky_tip_link" />
    <origin rpy="0 0 0" xyz="0.031 -0.004 0" />
  </joint>

  <link
    name="left_thigh_pitch_link">
    <inertial>
      <origin
        xyz="-0.050241 0.088014 0.0018636"
        rpy="0 0 0" />
      <mass
        value="2.57" />
      <inertia
        ixx="0.00745357"
        ixy="0.00316003"
        ixz="-0.00019352"
        iyy="0.00829676"
        iyz="-5.27E-05"
        izz="0.01126084" />
    </inertial>
    <visual>
      <origin
        xyz="0 0 0"
        rpy="0 0 0" />
      <geometry>
        <mesh
          filename="../meshes/left_thigh_pitch_link.STL" />
      </geometry>
      <material
        name="">
        <color
          rgba="0.752941176470588 0.752941176470588 0.752941176470588 1" />
      </material>
    </visual>
    <!-- <collision>
      <origin
        xyz="0 0 0"
        rpy="0 0 0" />
      <geometry>
        <mesh
          filename="../meshes/left_thigh_pitch_link.STL" />
      </geometry>
    </collision> -->
  </link>
  <joint
    name="left_hip_pitch_joint"
    type="revolute">
    <origin
      xyz="0 0.05513 -0.111"
      rpy="-0.5236 0 0" />
    <parent
      link="base_link" />
    <child
      link="left_thigh_pitch_link" />
    <axis
      xyz="0 1 0" />
    <limit
      lower="-2.617"
      upper="2.617"
      effort="360"
      velocity="5.55" />
  </joint>
  <link
    name="left_thigh_roll_link">
    <inertial>
      <origin
        xyz="0.070165 -0.0002902 -0.0054913"
        rpy="0 0 0" />
      <mass
        value="1.34" />
      <inertia
        ixx="0.00114196"
        ixy="-6.47E-06"
        ixz="0.00027308"
        iyy="0.0024568"
        iyz="-4.63E-06"
        izz="0.00274234" />
    </inertial>
    <visual>
      <origin
        xyz="0 0 0"
        rpy="0 0 0" />
      <geometry>
        <mesh
          filename="../meshes/left_thigh_roll_link.STL" />
      </geometry>
      <material
        name="">
        <color
          rgba="0.752941176470588 0.752941176470588 0.752941176470588 1" />
      </material>
    </visual>
    <!-- <collision>
      <origin
        xyz="0 0 0"
        rpy="0 0 0" />
      <geometry>
        <mesh
          filename="../meshes/left_thigh_roll_link.STL" />
      </geometry>
    </collision> -->
  </link>
  <joint
    name="left_hip_roll_joint"
    type="revolute">
    <origin
      xyz="-0.0855 0.098 0"
      rpy="0.5236 0 0" />
    <parent
      link="left_thigh_pitch_link" />
    <child
      link="left_thigh_roll_link" />
    <axis
      xyz="1 0 0" />
    <limit
      lower="-0.419"
      upper="1.57"
      effort="114"
      velocity="10.47" />
  </joint>
  <link
    name="left_thigh_yaw_link">
    <inertial>
      <origin
        xyz="0.003909 -0.0089675 -0.19938"
        rpy="0 0 0" />
      <mass
        value="5.04" />
      <inertia
        ixx="0.04254555"
        ixy="4.78E-06"
        ixz="0.00051434"
        iyy="0.04380939"
        iyz="0.00086784"
        izz="0.009955" />
    </inertial>
    <visual>
      <origin
        xyz="0 0 0"
        rpy="0 0 0" />
      <geometry>
        <mesh
          filename="../meshes/left_thigh_yaw_link.STL" />
      </geometry>
      <material
        name="">
        <color
          rgba="0.752941176470588 0.752941176470588 0.752941176470588 1" />
      </material>
    </visual>
    <collision>
        <origin
                xyz="0 0 -0.22"
                rpy="0 0 0"/>
        <geometry>
            <cylinder length="0.25" radius="0.05"/>
        </geometry>
    </collision>
  </link>
  <joint
    name="left_hip_yaw_joint"
    type="revolute">
    <origin
      xyz="0.0855 0 0"
      rpy="0 0 0" />
    <parent
      link="left_thigh_roll_link" />
    <child
      link="left_thigh_yaw_link" />
    <axis
      xyz="0 0 1" />
    <limit
      lower="-0.698"
      upper="1.57"
      effort="51"
      velocity="6.18" />
  </joint>
  <link
    name="left_shank_pitch_link">
    <inertial>
      <origin
        xyz="0.0067466 0.002134 -0.16536"
        rpy="0 0 0" />
      <mass
        value="3.08" />
      <inertia
        ixx="0.02732987"
        ixy="3.28E-05"
        ixz="0.00020259"
        iyy="0.02808677"
        iyz="0.00025043"
        izz="0.00331385" />
    </inertial>
    <visual>
      <origin
        xyz="0 0 0"
        rpy="0 0 0" />
      <geometry>
        <mesh
          filename="../meshes/left_shank_pitch_link.STL" />
      </geometry>
      <material
        name="">
        <color
          rgba="0.752941176470588 0.752941176470588 0.752941176470588 1" />
      </material>
    </visual>
    <collision>
        <origin
                xyz="0 0 -0.15"
                rpy="0 0 0"/>
        <geometry>
            <cylinder length="0.2" radius="0.05"/>
        </geometry>
    </collision>
  </link>
  <joint
    name="left_knee_pitch_joint"
    type="revolute">
    <origin
      xyz="0 0 -0.378"
      rpy="0 0 0" />
    <parent
      link="left_thigh_yaw_link" />
    <child
      link="left_shank_pitch_link" />
    <axis
      xyz="0 1 0" />
    <limit
      lower="-0.087"
      upper="2.355"
      effort="360"
      velocity="5.55" />
  </joint>
  <link
    name="left_foot_roll_link">
    <inertial>
      <origin
        xyz="-7.47E-09 0.00013124 5.54E-10"
        rpy="0 0 0" />
      <mass
        value="0.09" />
      <inertia
        ixx="1.55E-05"
        ixy="0"
        ixz="0"
        iyy="8.6E-06"
        iyz="0"
        izz="1.75E-05" />
    </inertial>
    <visual>
      <origin
        xyz="0 0 0"
        rpy="0 0 0" />
      <geometry>
        <mesh
          filename="../meshes/left_foot_roll_link.STL" />
      </geometry>
      <material
        name="">
        <color
          rgba="0.752941176470588 0.752941176470588 0.752941176470588 1" />
      </material>
    </visual>
    <!-- <collision>
      <origin
        xyz="0 0 0"
        rpy="0 0 0" />
      <geometry>
        <mesh
          filename="../meshes/left_foot_roll_link.STL" />
      </geometry>
    </collision> -->
  </link>
  <joint
    name="left_ankle_roll_joint"
    type="revolute">
    <origin
      xyz="0 0 -0.406"
      rpy="0 0 0" />
    <parent
      link="left_shank_pitch_link" />
    <child
      link="left_foot_roll_link" />
    <axis
      xyz="1 0 0" />
    <limit
      lower="-0.436"
      upper="0.436"
      effort="29.1"
      velocity="13.61" />
  </joint>
  <link
    name="left_foot_pitch_link">
    <inertial>
      <origin
        xyz="0.040554 0.0003147 -0.03937"
        rpy="0 0 0" />
      <mass
        value="0.6548" />
      <inertia
        ixx="0.00045362"
        ixy="1.07E-06"
        ixz="7.966E-05"
        iyy="0.0025841"
        iyz="0.0025841"
        izz="0.0028289" />
    </inertial>
    <visual>
      <origin
        xyz="0 0 0"
        rpy="0 0 0" />
      <geometry>
        <mesh
          filename="../meshes/left_foot_pitch_link.STL" />
      </geometry>
      <material
        name="">
        <color
          rgba="0.752941176470588 0.752941176470588 0.752941176470588 1" />
      </material>
    </visual>
    <collision>
      <origin
        xyz="0 0 0"
        rpy="0 0 0" />
      <geometry>
        <mesh
          filename="../meshes/left_foot_pitch_link.STL" />
      </geometry>
    </collision>
  </link>
  <joint
    name="left_ankle_pitch_joint"
    type="revolute">
    <origin
      xyz="0 0 0"
      rpy="0 0 0" />
    <parent
      link="left_foot_roll_link" />
    <child
      link="left_foot_pitch_link" />
    <axis
      xyz="0 1 0" />
    <limit
      lower="-0.785"
      upper="0.785"
      effort="51"
      velocity="6.18" />
  </joint>
  <link
    name="right_thigh_pitch_link">
    <inertial>
      <origin
        xyz="-0.050231 -0.088018 0.0018546"
        rpy="0 0 0" />
      <mass
        value="2.57" />
      <inertia
        ixx="0.0074496"
        ixy="-0.00315768"
        ixz="-6.51E-05"
        iyy="0.00829362"
        iyz="0.00010001"
        izz="0.01126354" />
    </inertial>
    <visual>
      <origin
        xyz="0 0 0"
        rpy="0 0 0" />
      <geometry>
        <mesh
          filename="../meshes/right_thigh_pitch_link.STL" />
      </geometry>
      <material
        name="">
        <color
          rgba="0.752941176470588 0.752941176470588 0.752941176470588 1" />
      </material>
    </visual>
    <!-- <collision>
      <origin
        xyz="0 0 0"
        rpy="0 0 0" />
      <geometry>
        <mesh
          filename="../meshes/right_thigh_pitch_link.STL" />
      </geometry>
    </collision> -->
  </link>
  <joint
    name="right_hip_pitch_joint"
    type="revolute">
    <origin
      xyz="0 -0.05513 -0.111"
      rpy="0.5236 0 0" />
    <parent
      link="base_link" />
    <child
      link="right_thigh_pitch_link" />
    <axis
      xyz="0 1 0" />
    <limit
      lower="-2.617"
      upper="2.617"
      effort="360"
      velocity="5.55" />
  </joint>
  <link
    name="right_thigh_roll_link">
    <inertial>
      <origin
        xyz="0.070165 0.0002902 -0.0053932"
        rpy="0 0 0" />
      <mass
        value="1.34" />
      <inertia
        ixx="0.00114075"
        ixy="5.4E-06"
        ixz="0.00027195"
        iyy="0.00245524"
        iyz="4.14E-06"
        izz="0.00274174" />
    </inertial>
    <visual>
      <origin
        xyz="0 0 0"
        rpy="0 0 0" />
      <geometry>
        <mesh
          filename="../meshes/right_thigh_roll_link.STL" />
      </geometry>
      <material
        name="">
        <color
          rgba="0.752941176470588 0.752941176470588 0.752941176470588 1" />
      </material>
    </visual>
    <!-- <collision>
      <origin
        xyz="0 0 0"
        rpy="0 0 0" />
      <geometry>
        <mesh
          filename="../meshes/right_thigh_roll_link.STL" />
      </geometry>
    </collision> -->
  </link>
  <joint
    name="right_hip_roll_joint"
    type="revolute">
    <origin
      xyz="-0.0855 -0.098 0"
      rpy="-0.5236 0 0" />
    <parent
      link="right_thigh_pitch_link" />
    <child
      link="right_thigh_roll_link" />
    <axis
      xyz="1 0 0" />
    <limit
      lower="-1.57"
      upper="0.419"
      effort="114"
      velocity="10.47" />
  </joint>
  <link
    name="right_thigh_yaw_link">
    <inertial>
      <origin
        xyz="0.0039071 0.0089696 -0.19935"
        rpy="0 0 0" />
      <mass
        value="5.04" />
      <inertia
        ixx="0.04249987"
        ixy="0.00015716"
        ixz="0.00054105"
        iyy="0.04376418"
        iyz="-0.00088023"
        izz="0.0099503" />
    </inertial>
    <visual>
      <origin
        xyz="0 0 0"
        rpy="0 0 0" />
      <geometry>
        <mesh
          filename="../meshes/right_thigh_yaw_link.STL" />
      </geometry>
      <material
        name="">
        <color
          rgba="0.752941176470588 0.752941176470588 0.752941176470588 1" />
      </material>
    </visual>
    <collision>
        <origin
                xyz="0 0 -0.22"
                rpy="0 0 0"/>
        <geometry>
            <cylinder length="0.25" radius="0.05"/>
        </geometry>
    </collision>
  </link>
  <joint
    name="right_hip_yaw_joint"
    type="revolute">
    <origin
      xyz="0.0855 0 0"
      rpy="0 0 0" />
    <parent
      link="right_thigh_roll_link" />
    <child
      link="right_thigh_yaw_link" />
    <axis
      xyz="0 0 1" />
    <limit
      lower="-1.57"
      upper="0.698"
      effort="51"
      velocity="6.18" />
  </joint>
  <link
    name="right_shank_pitch_link">
    <inertial>
      <origin
        xyz="0.0067471 -0.002134 -0.16536"
        rpy="0 0 0" />
      <mass
        value="3.08" />
      <inertia
        ixx="0.02722375"
        ixy="-2.97E-05"
        ixz="0.00022034"
        iyy="0.02797575"
        iyz="-0.00024168"
        izz="0.00330915" />
    </inertial>
    <visual>
      <origin
        xyz="0 0 0"
        rpy="0 0 0" />
      <geometry>
        <mesh
          filename="../meshes/right_shank_pitch_link.STL" />
      </geometry>
      <material
        name="">
        <color
          rgba="0.752941176470588 0.752941176470588 0.752941176470588 1" />
      </material>
    </visual>
    <collision>
        <origin
                xyz="0 0 -0.15"
                rpy="0 0 0"/>
        <geometry>
            <cylinder length="0.2" radius="0.05"/>
        </geometry>
    </collision>
  </link>
  <joint
    name="right_knee_pitch_joint"
    type="revolute">
    <origin
      xyz="0 0 -0.378"
      rpy="0 0 0" />
    <parent
      link="right_thigh_yaw_link" />
    <child
      link="right_shank_pitch_link" />
    <axis
      xyz="0 1 0" />
    <limit
      lower="-0.087"
      upper="2.355"
      effort="360"
      velocity="5.55" />
  </joint>
  <link
    name="right_foot_roll_link">
    <inertial>
      <origin
        xyz="-7.72E-09 -0.00013125 6.01E-10"
        rpy="0 0 0" />
      <mass
        value="0.09" />
      <inertia
        ixx="1.55E-05"
        ixy="0"
        ixz="0"
        iyy="8.6E-06"
        iyz="0"
        izz="1.75E-05" />
    </inertial>
    <visual>
      <origin
        xyz="0 0 0"
        rpy="0 0 0" />
      <geometry>
        <mesh
          filename="../meshes/right_foot_roll_link.STL" />
      </geometry>
      <material
        name="">
        <color
          rgba="0.752941176470588 0.752941176470588 0.752941176470588 1" />
      </material>
    </visual>
    <!-- <collision>
      <origin
        xyz="0 0 0"
        rpy="0 0 0" />
      <geometry>
        <mesh
          filename="../meshes/right_foot_roll_link.STL" />
      </geometry>
    </collision> -->
  </link>
  <joint
    name="right_ankle_roll_joint"
    type="revolute">
    <origin
      xyz="0 0 -0.406"
      rpy="0 0 0" />
    <parent
      link="right_shank_pitch_link" />
    <child
      link="right_foot_roll_link" />
    <axis
      xyz="1 0 0" />
    <limit
      lower="-0.436"
      upper="0.436"
      effort="29.1"
      velocity="13.61" /> 
  </joint>
  <link
    name="right_foot_pitch_link">
    <inertial>
      <origin
        xyz="0.040561 -0.0002043 -0.039369"
        rpy="0 0 0" />
      <mass
        value="0.6548" />
      <inertia
        ixx="0.00045361"
        ixy="-1.6E-06"
        ixz="7.967E-05"
        iyy="0.00258404"
        iyz="-6.1E-07"
        izz="0.0028289" />
    </inertial>
    <visual>
      <origin
        xyz="0 0 0"
        rpy="0 0 0" />
      <geometry>
        <mesh
          filename="../meshes/right_foot_pitch_link.STL" />
      </geometry>
      <material
        name="">
        <color
          rgba="0.752941176470588 0.752941176470588 0.752941176470588 1" />
      </material>
    </visual>
    <collision>
      <origin
        xyz="0 0 0"
        rpy="0 0 0" />
      <geometry>
        <mesh
          filename="../meshes/right_foot_pitch_link.STL" />
      </geometry>
    </collision>
  </link>
  <joint
    name="right_ankle_pitch_joint"
    type="revolute">
    <origin
      xyz="0 0 0"
      rpy="0 0 0" />
    <parent
      link="right_foot_roll_link" />
    <child
      link="right_foot_pitch_link" />
    <axis
      xyz="0 1 0" />
    <limit
      lower="-0.785"
      upper="0.785"
      effort="51"
      velocity="6.18" />
  </joint>
  <link
    name="imu_link">
    <inertial>
      <origin
        xyz="0 0 0"
        rpy="0 0 0" />
      <mass
        value="0" />
      <inertia
        ixx="0"
        ixy="0"
        ixz="0"
        iyy="0"
        iyz="0"
        izz="0" />
    </inertial>
    <visual>
      <origin
        xyz="0 0 0"
        rpy="0 0 0" />
      <geometry>
        <mesh
          filename="../meshes/imu_link.STL" />
      </geometry>
      <material
        name="">
        <color
          rgba="1 1 1 1" />
      </material>
    </visual>
    <!-- <collision>
      <origin
        xyz="0 0 0"
        rpy="0 0 0" />
      <geometry>
        <mesh
          filename="../meshes/imu_link.STL" />
      </geometry>
    </collision> -->
  </link>
  <joint
    name="imu_joint"
    type="fixed">
    <origin
      xyz="-0.059 0 -0.068"
      rpy="0 0 0" />
    <parent
      link="base_link" />
    <child
      link="imu_link" />
    <axis
      xyz="0 0 0" />
  </joint>
</robot>
